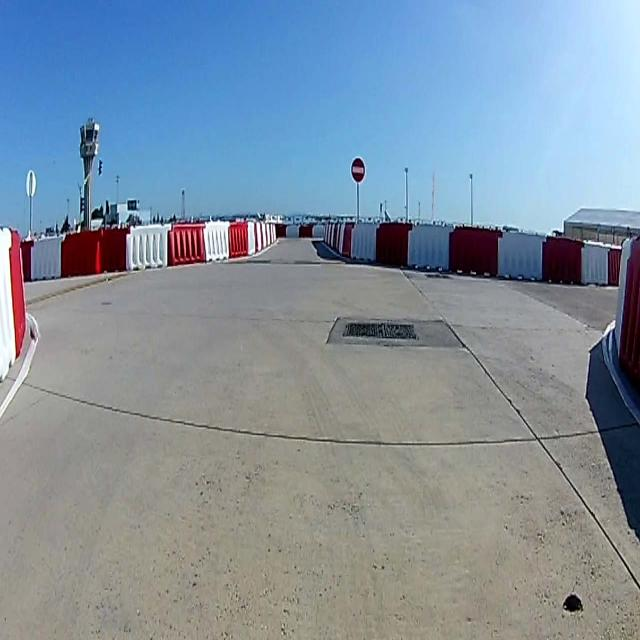girisyok: (351, 158, 365, 182)
